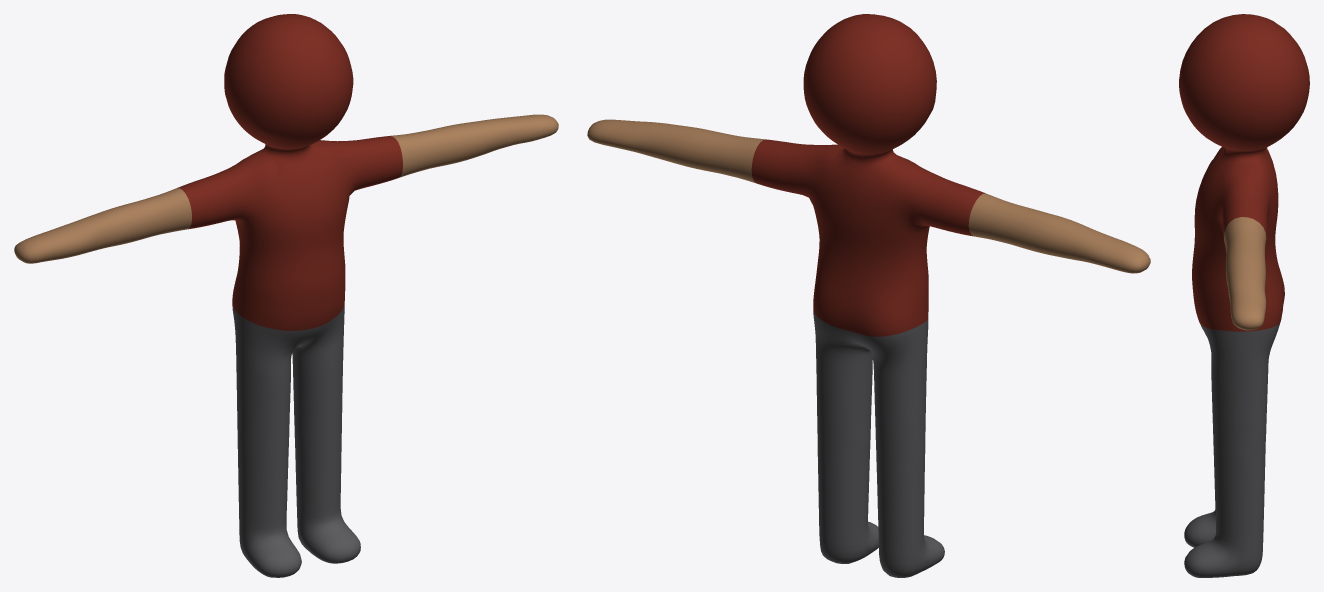
File: 1allscikman.fbx
3 renders of one model, left to right at view 1: azimuth 30°, elevation 25°; view 2: azimuth 150°, elevation 25°; view 3: azimuth 270°, elevation 25°, orthographic. The views are drawn at different scales.
Visible parts, largest first — view 1: Retopo_Stickman.001; view 2: Retopo_Stickman.001; view 3: Retopo_Stickman.001.
Part boxes in pixels (left/top/right/bottom): Retopo_Stickman.001: left=14, top=14, right=558, bottom=577; Retopo_Stickman.001: left=587, top=14, right=1150, bottom=577; Retopo_Stickman.001: left=1179, top=14, right=1309, bottom=577.
Size of the model in its own units: 184 by 173 by 38.22.
